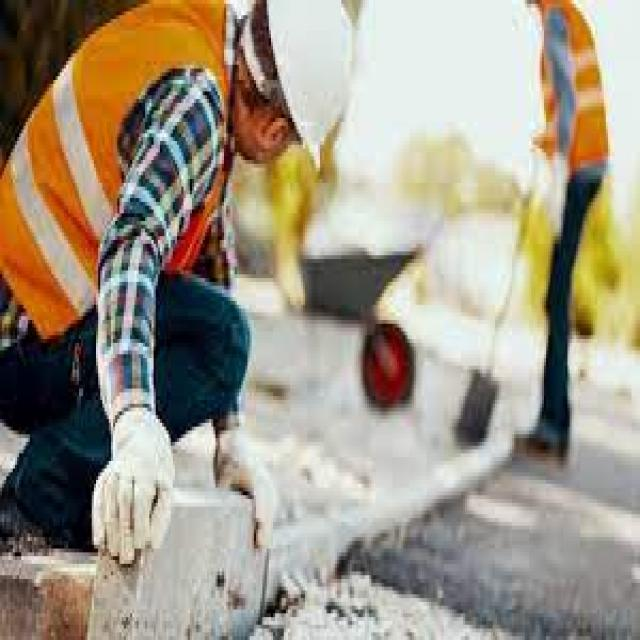Reflective-Jacket: (6, 12, 235, 358)
Safety-Helmet: (258, 8, 371, 182)
